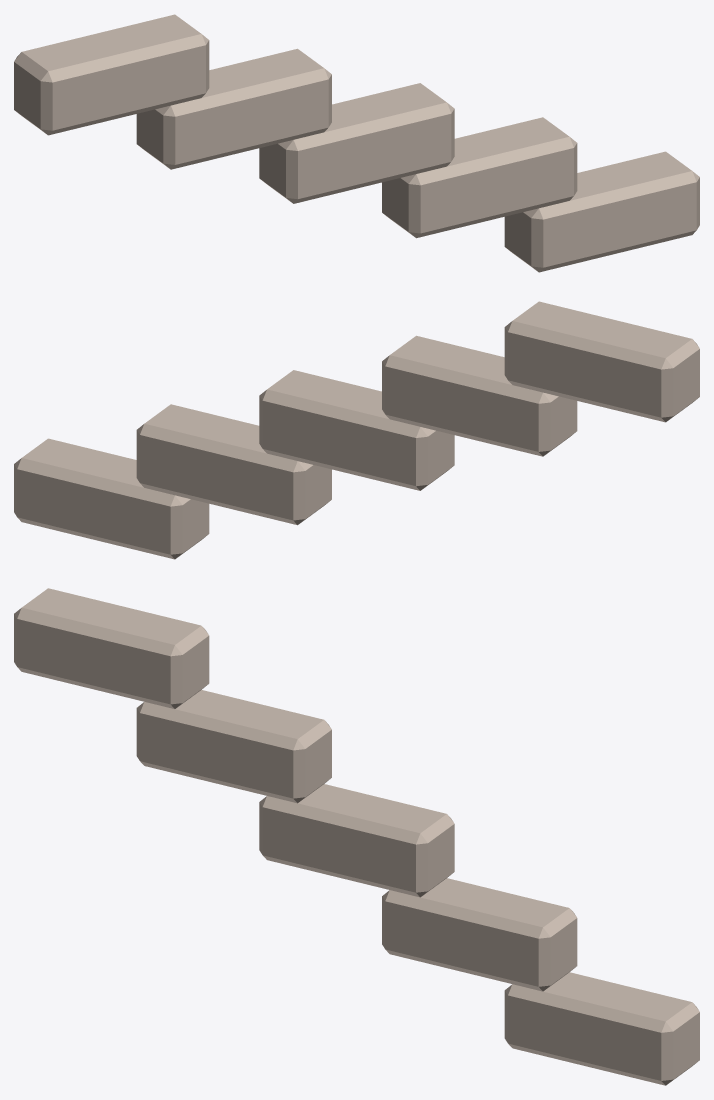
File: semiEscalerasPiedra1.glb
3 views of the same model, one above another, from view 1: azimuth 30°, elevation 25°; view 2: azimuth 150°, elevation 25°; view 3: azimuth 330°, elevation 25° (orthographic).
Parts seen in each view (by area): view 1: object2, object5, object4, object1, object3; view 2: object2, object5, object4, object1, object3; view 3: object2, object3, object4, object1, object5.
Part boxes in pixels (box(x1,y1,x2,y2)): object2: box(14, 14, 209, 135); object5: box(382, 117, 577, 238); object4: box(504, 151, 699, 272); object1: box(136, 48, 331, 169); object3: box(259, 83, 454, 203); object2: box(504, 301, 699, 422); object5: box(136, 404, 331, 525); object4: box(14, 438, 209, 559); object1: box(382, 335, 577, 456); object3: box(259, 370, 454, 490); object2: box(14, 588, 209, 708); object3: box(259, 784, 454, 897); object4: box(504, 972, 699, 1085); object1: box(136, 690, 331, 803); object5: box(382, 878, 577, 991).
Bounding box in the file's own units: 2.15 × 1 × 0.2.
